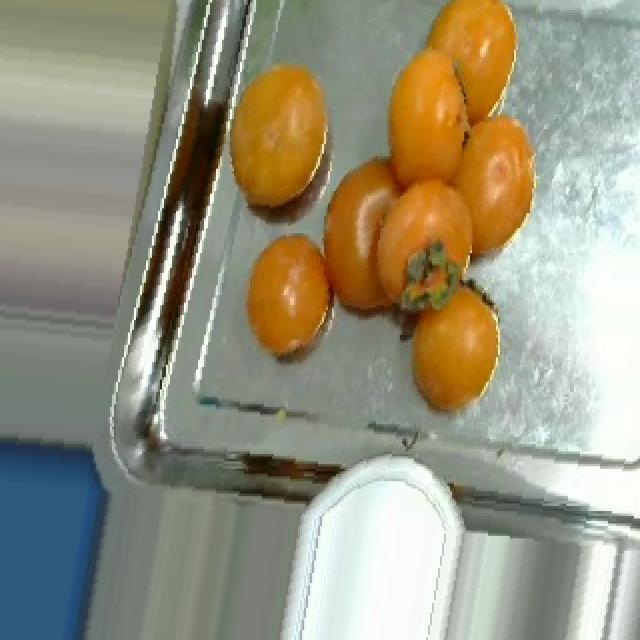Fruit: (388, 92, 564, 295), (210, 42, 352, 231), (388, 263, 518, 434), (226, 216, 352, 382), (402, 0, 538, 144)
